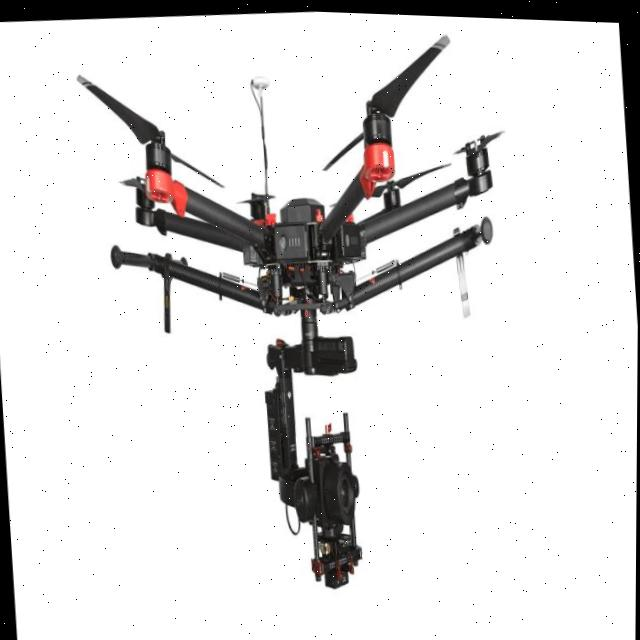drones: (51, 9, 543, 640)
